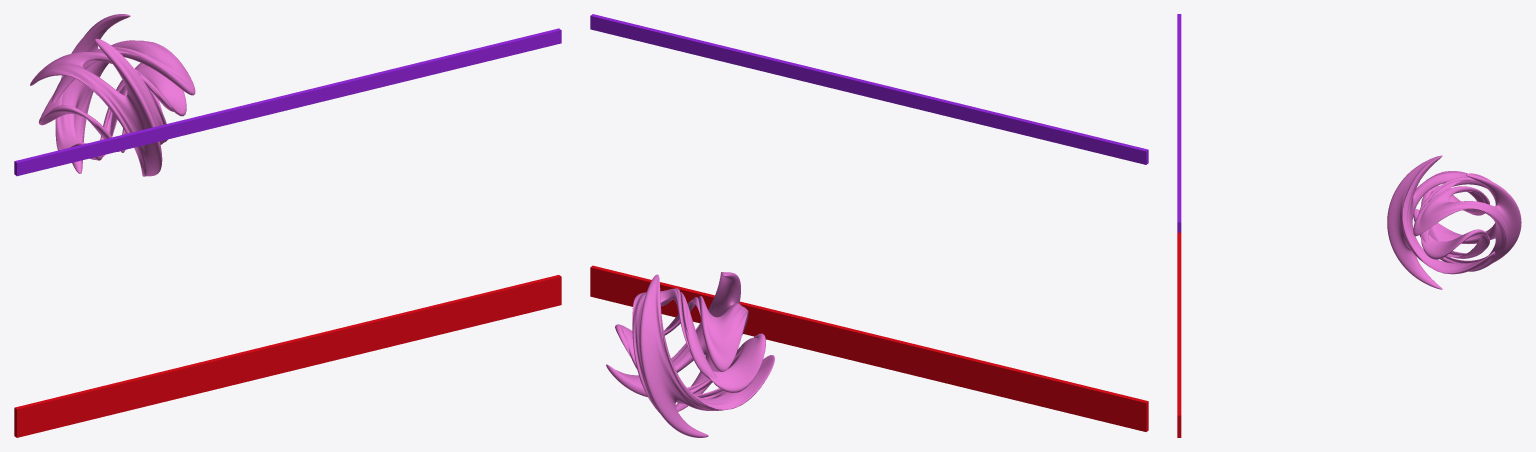
3 views of the same model, side by side, from view 1: azimuth 30°, elevation 25°; view 2: azimuth 150°, elevation 25°; view 3: azimuth 270°, elevation 25° (orthographic). The views are drawn at different scales.
Parts seen in each view (by area): view 1: Cube.002, Torus, Cube.001; view 2: Cube.002, Torus, Cube.001; view 3: Torus, Cube.001, Cube.002.
Part boxes in pixels (x1,y1,x2,y2): Cube.002: (14,275,561,437); Torus: (30,14,195,176); Cube.001: (14,28,561,176); Cube.002: (590,265,1148,431); Torus: (606,272,774,437); Cube.001: (590,14,1148,164); Torus: (1387,155,1521,289); Cube.001: (1177,14,1181,232); Cube.002: (1177,232,1181,437).
Bounding box in the file's own units: 10 × 4.82 × 6.98.
